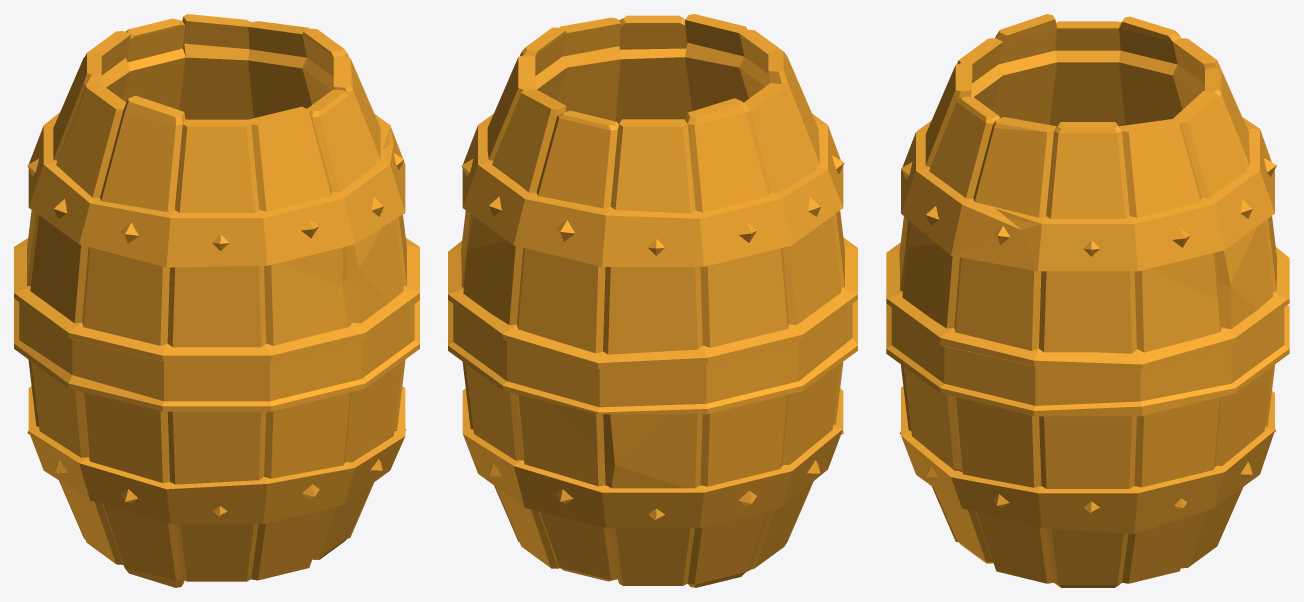
The model's file is SM_Barrel_Wood_A_Open_Fantasy.fbx.
3 views of the same model, side by side, from view 1: azimuth 30°, elevation 25°; view 2: azimuth 150°, elevation 25°; view 3: azimuth 270°, elevation 25° (orthographic).
Visible parts, largest first — view 1: barrel-wood-a-open-fantasy; view 2: barrel-wood-a-open-fantasy; view 3: barrel-wood-a-open-fantasy.
Boxes of the visible parts, x1,y1,x2,y2 form: barrel-wood-a-open-fantasy: [14, 14, 419, 587]; barrel-wood-a-open-fantasy: [448, 14, 857, 587]; barrel-wood-a-open-fantasy: [886, 14, 1289, 587].
Bounding box in the file's own units: 0.9918 × 1.28 × 0.9918.
